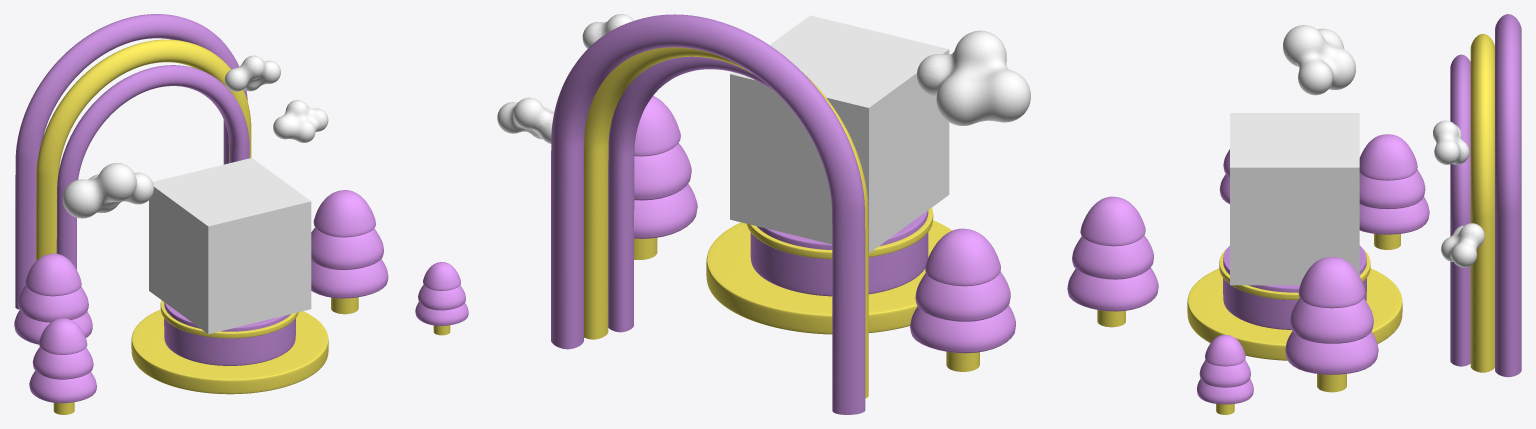
Rendered from podium_gate_pink.glb.
3 renders of one model, left to right at view 1: azimuth 30°, elevation 25°; view 2: azimuth 150°, elevation 25°; view 3: azimuth 270°, elevation 25°, orthographic. The views are drawn at different scales.
Parts seen in each view (by area): view 1: placeholder, Torus005, Torus006, Cylinder015, Torus004, Mball, Cylinder016, Cube007, Cube006, Cube008, Cube009, Cube010 (+9 smaller); view 2: placeholder, Torus005, Mball, Torus006, Cylinder015, Torus004, Cylinder016, Cube011, Cube010, Cube009, Cube020, Cube019 (+6 smaller); view 3: placeholder, Torus005, Torus006, Mball, Cylinder015, Torus004, Cube007, Cube008, Cylinder016, Cube006, Cube009, Cube010 (+7 smaller).
Boxes of the visible parts, <box> form: placeholder: <box>149,158,311,334</box>; Torus005: <box>15,14,247,309</box>; Torus006: <box>36,39,251,260</box>; Cylinder015: <box>131,309,328,394</box>; Torus004: <box>56,65,249,269</box>; Mball: <box>62,55,328,218</box>; Cylinder016: <box>164,302,295,365</box>; Cube007: <box>311,227,383,269</box>; Cube006: <box>313,190,375,237</box>; Cube008: <box>311,259,388,298</box>; Cube009: <box>25,253,81,296</box>; Cube010: <box>18,285,88,322</box>; placeholder: <box>730,15,949,253</box>; Torus005: <box>551,14,865,414</box>; Mball: <box>497,14,1030,143</box>; Torus006: <box>584,47,868,398</box>; Cylinder015: <box>706,220,951,334</box>; Torus004: <box>608,56,774,332</box>; Cylinder016: <box>750,210,928,296</box>; Cube011: <box>910,305,1015,353</box>; Cube010: <box>915,271,1010,321</box>; Cube009: <box>925,228,1000,286</box>; Cube020: <box>1067,267,1158,311</box>; Cube019: <box>1072,235,1153,279</box>; placeholder: <box>1230,113,1359,285</box>; Torus005: <box>1495,14,1521,377</box>; Torus006: <box>1470,34,1494,372</box>; Mball: <box>1283,25,1484,267</box>; Cylinder015: <box>1187,268,1402,360</box>; Torus004: <box>1450,54,1470,366</box>; Cube007: <box>1290,298,1373,343</box>; Cube008: <box>1285,331,1378,374</box>; Cylinder016: <box>1223,245,1366,329</box>; Cube006: <box>1298,257,1365,308</box>; Cube009: <box>1359,134,1417,180</box>; Cube010: <box>1359,169,1425,209</box>.
Size of the model in its own units: 3 by 1.82 by 1.91.
